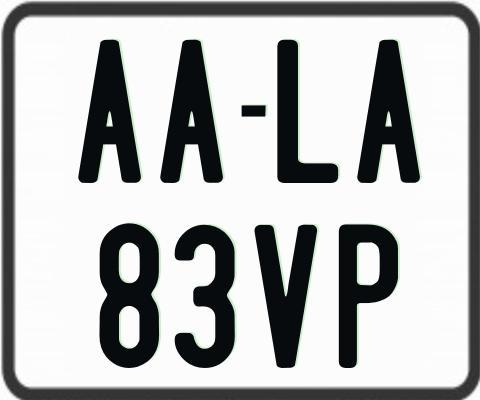3: (174, 223, 238, 369)
8: (96, 222, 162, 369)
A: (158, 37, 227, 186), (356, 38, 421, 187), (75, 40, 139, 187)
L: (276, 37, 338, 182)
P: (339, 221, 398, 371)
V: (255, 224, 322, 373)
